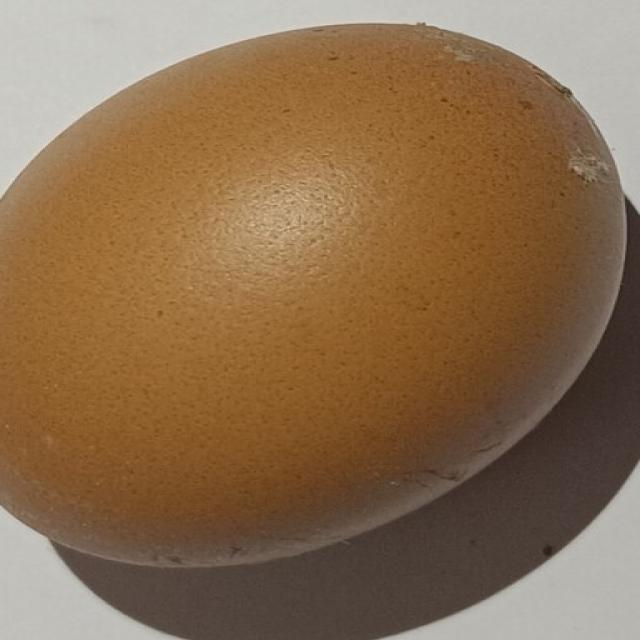fresh: (0, 18, 632, 558)
